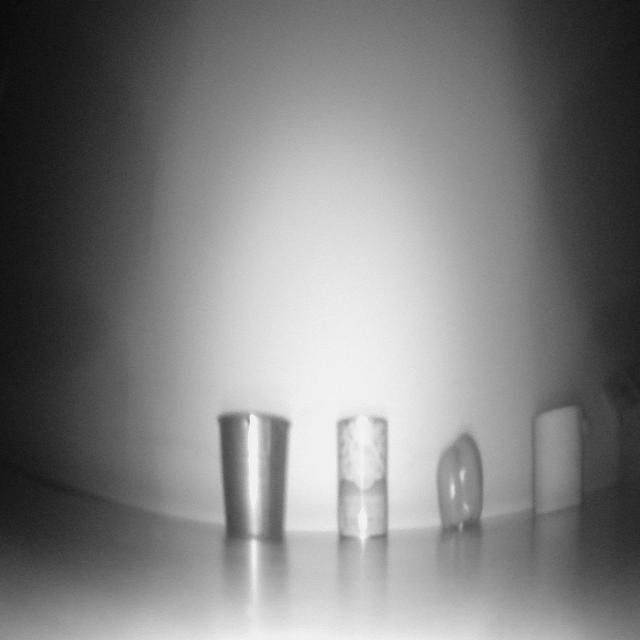targets: (220, 402, 292, 546), (336, 408, 391, 536), (533, 402, 584, 521), (606, 340, 640, 483), (438, 431, 480, 532)
